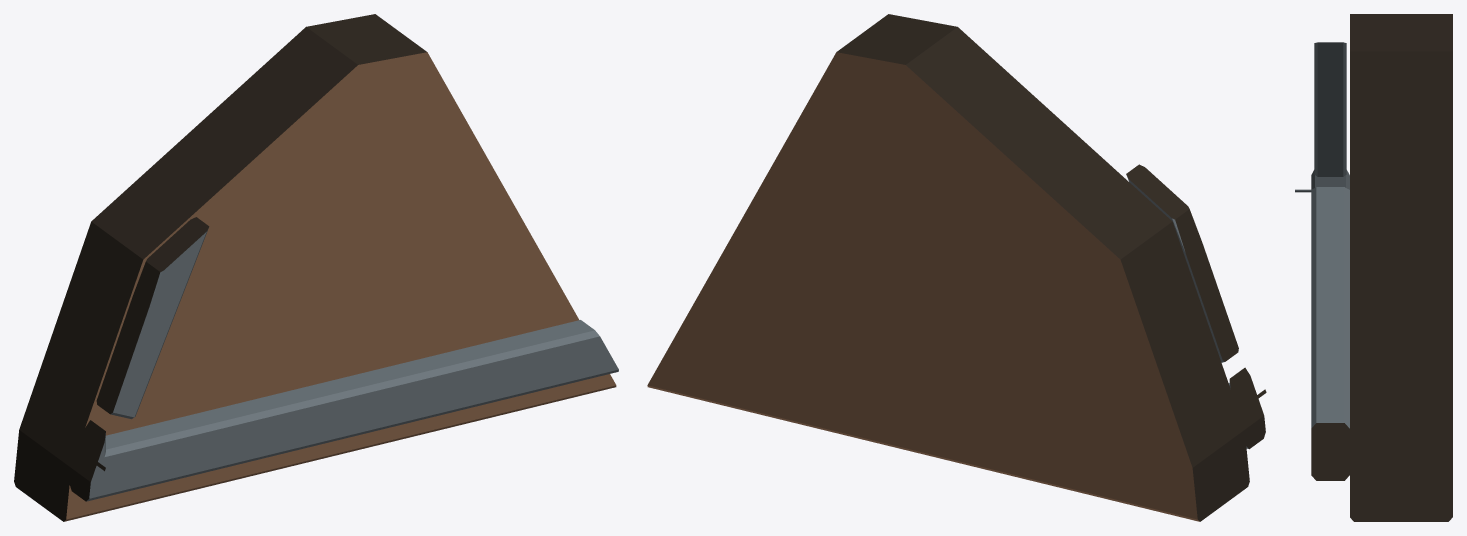
The model's file is SM_DoorShard_01_38.fbx.
The picture shows the model from 3 angles, left to right: view 1: azimuth 30°, elevation 25°; view 2: azimuth 150°, elevation 25°; view 3: azimuth 270°, elevation 25°; orthographic projection.
Parts seen in each view (by area): view 1: SM_DoorShard_01_38; view 2: SM_DoorShard_01_38; view 3: SM_DoorShard_01_38.
Boxes of the visible parts, x1,y1,x2,y2 form: SM_DoorShard_01_38: [14, 14, 618, 521]; SM_DoorShard_01_38: [647, 14, 1266, 521]; SM_DoorShard_01_38: [1295, 14, 1452, 521].
Size of the model in its own units: 97.93 by 24.5 by 65.57.
